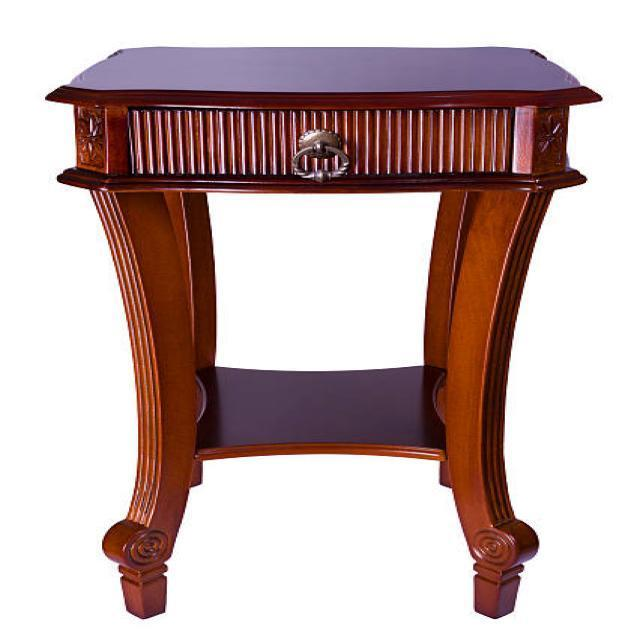table: (43, 44, 602, 620)
